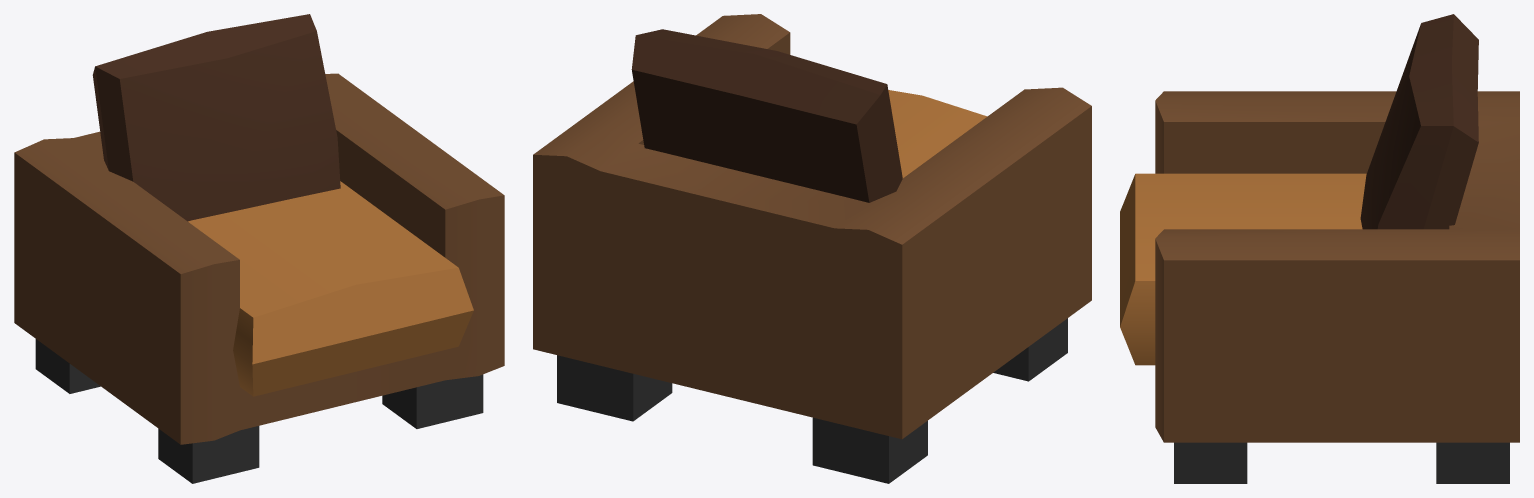
File: Prop_Sofa_02_A.fbx
3 renders of one model, left to right at view 1: azimuth 30°, elevation 25°; view 2: azimuth 150°, elevation 25°; view 3: azimuth 270°, elevation 25°, orthographic. The views are drawn at different scales.
Parts seen in each view (by area): view 1: Prop_Sofa_02_A; view 2: Prop_Sofa_02_A; view 3: Prop_Sofa_02_A.
Boxes of the visible parts, box(x1,y1,x2,y2) form: Prop_Sofa_02_A: box(14, 14, 504, 483); Prop_Sofa_02_A: box(533, 14, 1091, 483); Prop_Sofa_02_A: box(1120, 14, 1519, 483).
Bounding box in the file's own units: 100 × 95 × 100.
